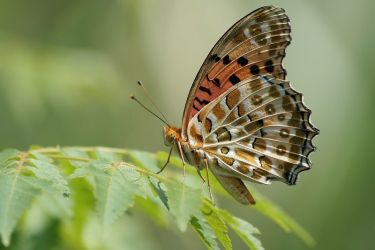Argyreus hyperbius: (126, 1, 321, 206)
butterfly: (128, 2, 323, 208)
